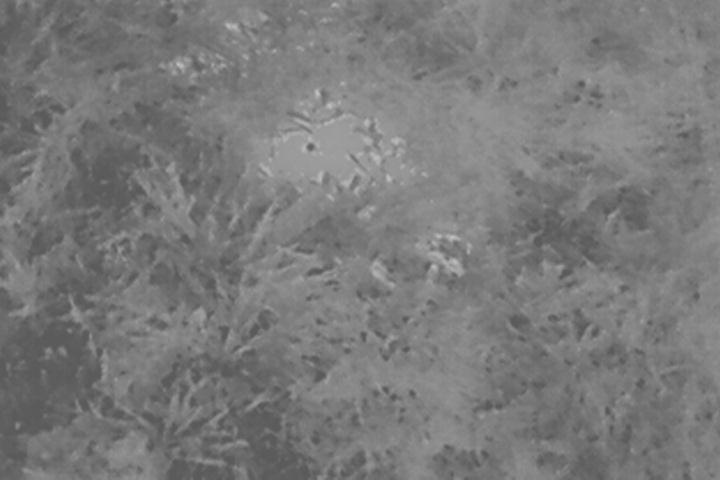landmine: (271, 102, 399, 203)
